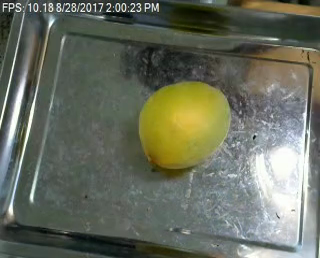Mango: (135, 76, 232, 170)
